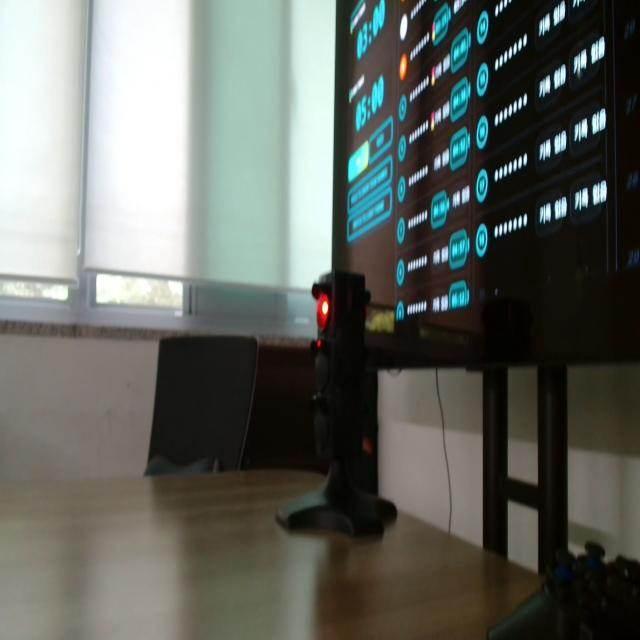red_light: (317, 294, 329, 330), (317, 340, 321, 349)
